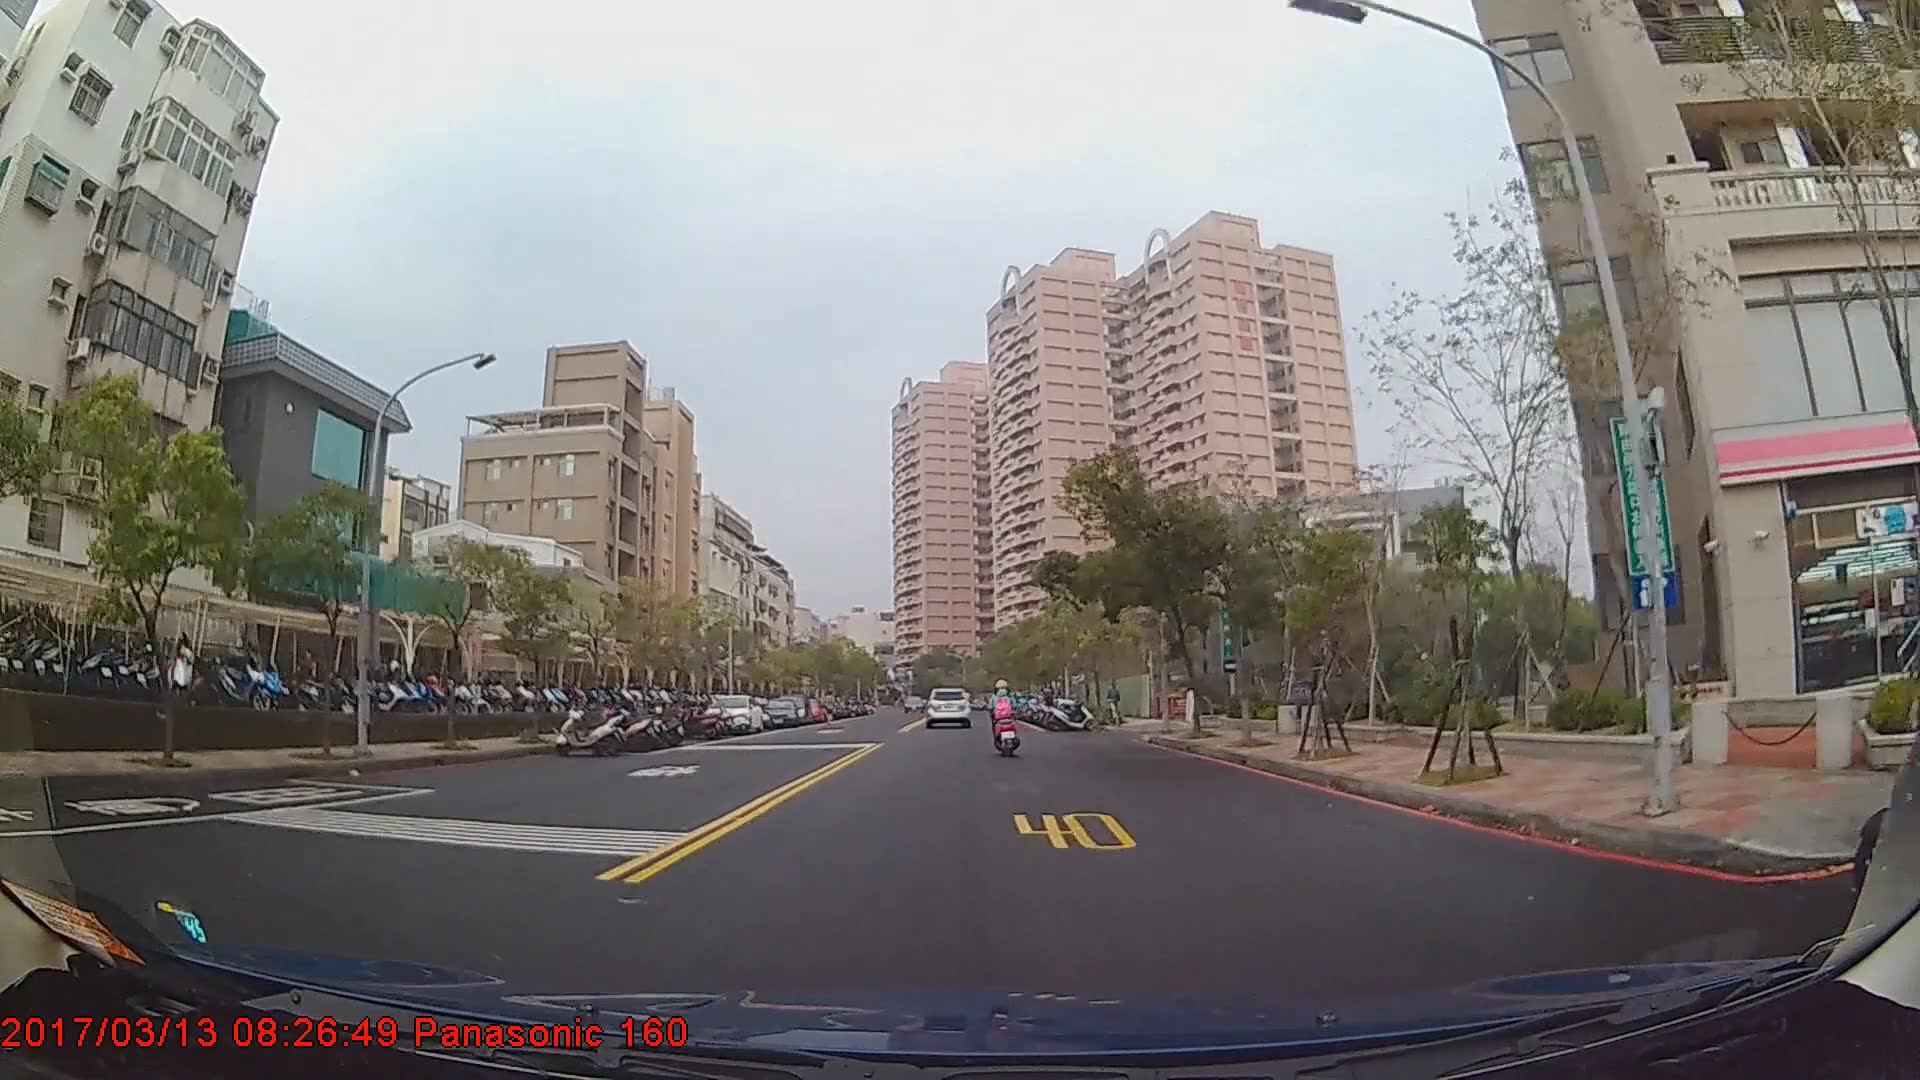pedestrian: (1104, 682, 1124, 729)
rider: (987, 679, 1022, 755)
vehicle: (700, 693, 764, 735), (922, 684, 973, 728), (759, 696, 801, 729)
